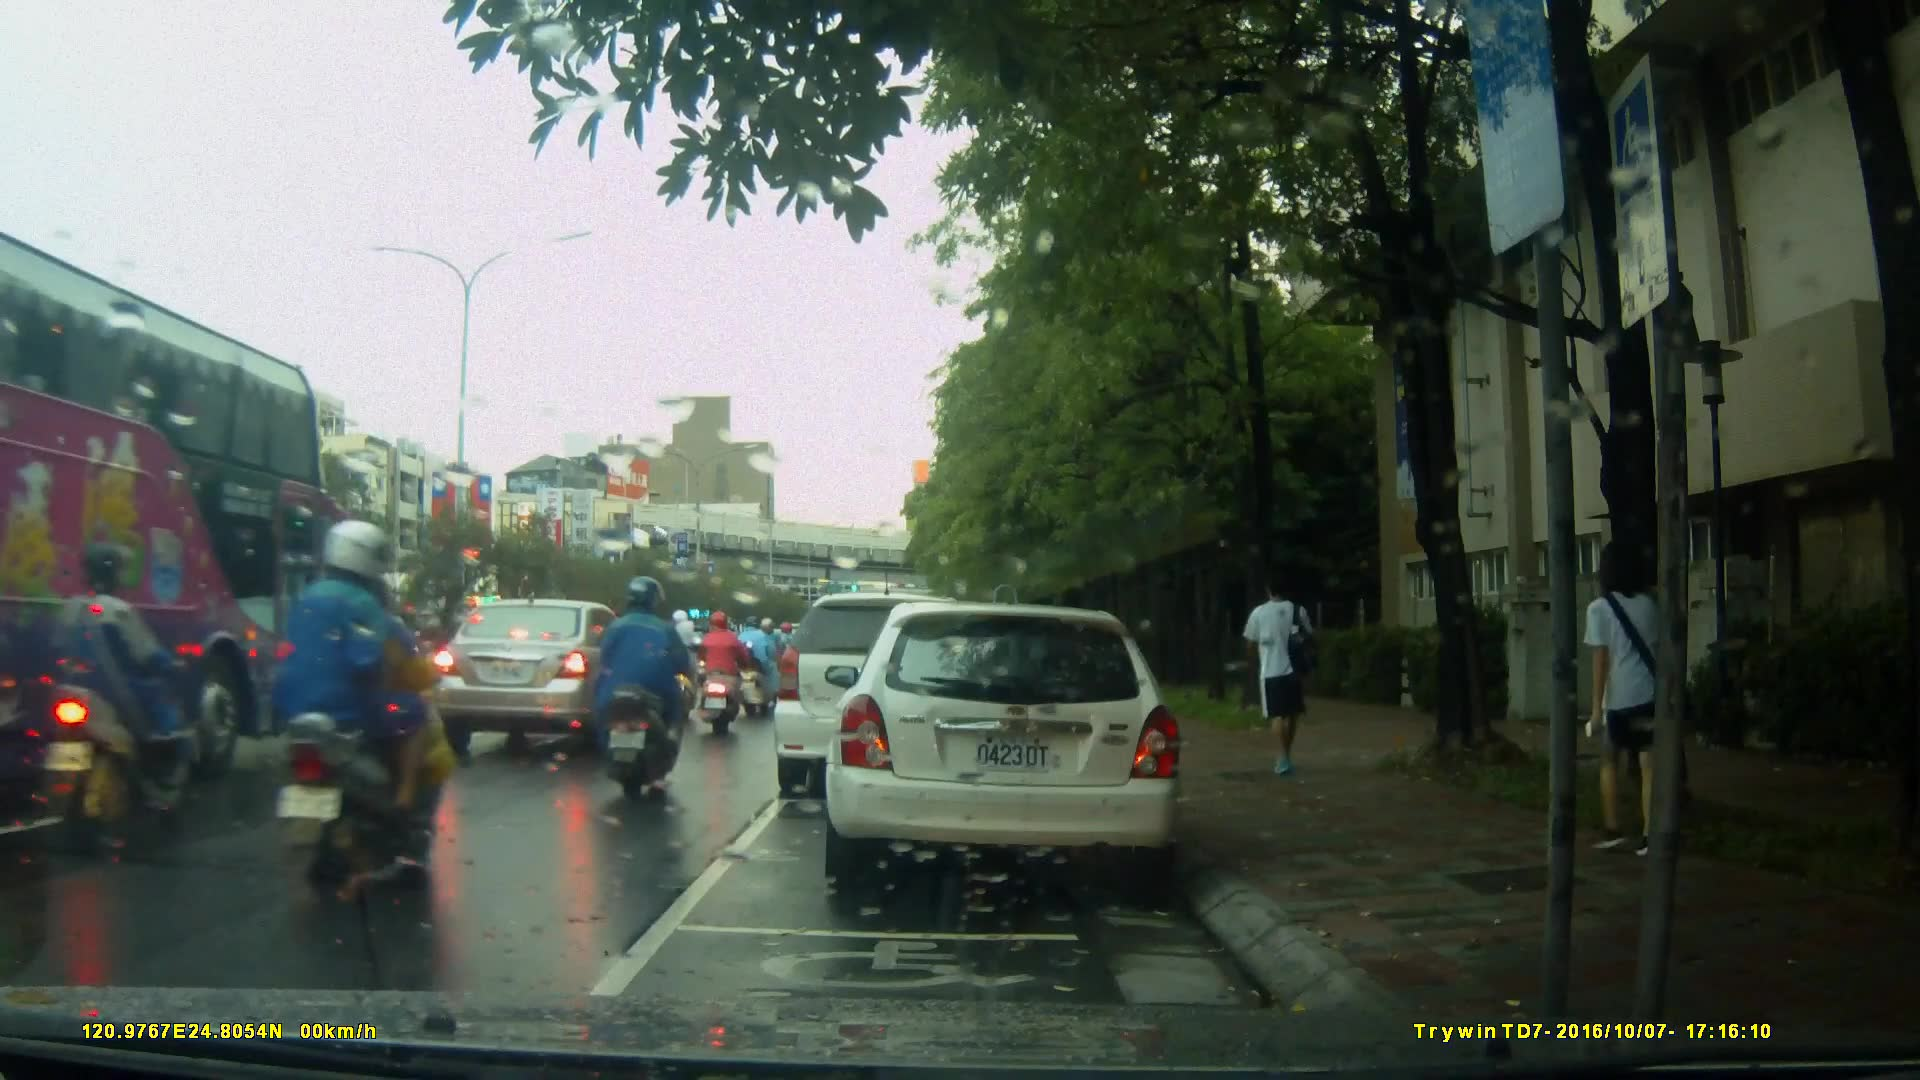pedestrian: (1558, 541, 1675, 865), (1238, 564, 1330, 792)
rider: (284, 522, 454, 903), (23, 540, 190, 862), (586, 574, 694, 797), (694, 605, 753, 735), (653, 604, 704, 719), (735, 612, 778, 712), (768, 619, 804, 709)
vehicle: (10, 232, 363, 878), (812, 604, 1188, 882), (774, 595, 995, 802), (431, 596, 667, 755)
